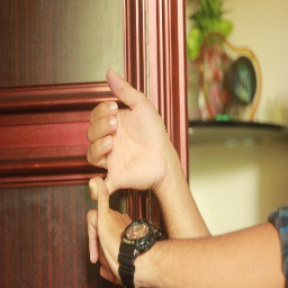S: (71, 66, 173, 287)
